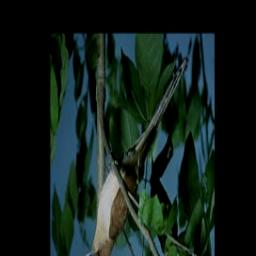Cuckoo: (81, 50, 189, 256)
